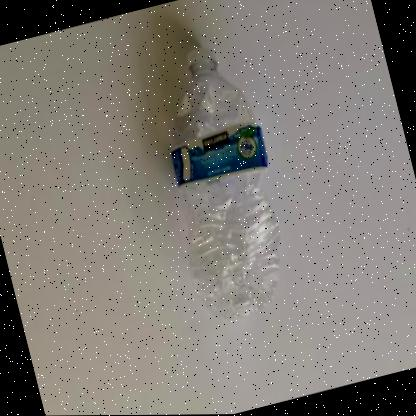Plastic: (170, 49, 279, 319)
